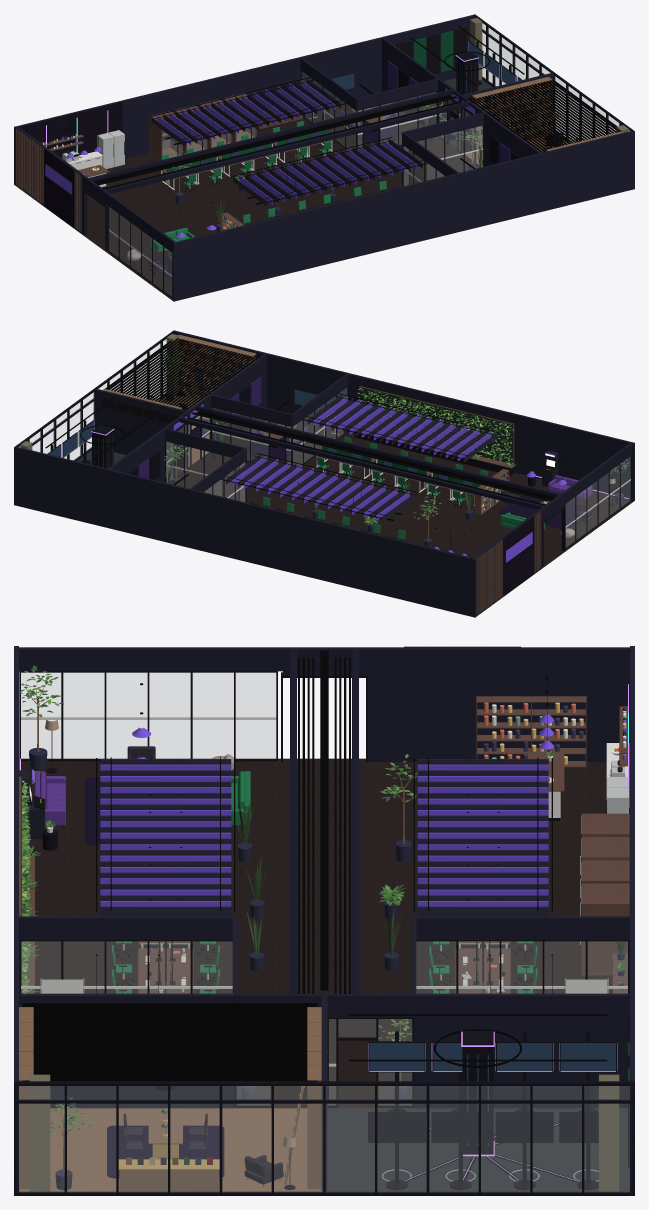
File: wing-neon.glb
3 views of the same model, one above another, from view 1: azimuth 30°, elevation 25°; view 2: azimuth 150°, elevation 25°; view 3: azimuth 270°, elevation 25° (orthographic). The views are drawn at different scales.
Parts seen in each view (by area): view 1: wing-neon-baked-paint-wall, wing-neon-baked-floor, wing-neon-ceiling-felt, wing-neon-glass-glass, wing-neon-ceiling-wood, wing-neon-baked-metal-dark, wing-neon-baked-wood, wing-neon-baked-plaster-accent, wing-neon-baked-felt, wing-neon-ceiling-ceiling, wing-neon-baked-fabric, wing-neon-baked-wood-dark (+10 smaller); view 2: wing-neon-baked-paint-wall, wing-neon-baked-floor, wing-neon-ceiling-felt, wing-neon-glass-glass, wing-neon-ceiling-wood, wing-neon-baked-metal-dark, wing-neon-baked-paint, wing-neon-ceiling-ceiling, wing-neon-baked-felt, wing-neon-baked-wood, wing-neon-baked-foliage, wing-neon-baked-fabric (+9 smaller); view 3: wing-neon-glass-glass, wing-neon-baked-paint-wall, wing-neon-baked-floor, wing-neon-ceiling-felt, wing-neon-baked-metal-dark, wing-neon-ceiling-wood, wing-neon-baked-wood-dark, wing-neon-baked-paint, wing-neon-baked-wood, wing-neon-baked-foliage, wing-neon-baked-fabric, wing-neon-baked-gloss (+14 smaller).
Boxes of the visible parts, bbox=[...] form: wing-neon-baked-paint-wall: bbox=[14, 15, 634, 301]; wing-neon-baked-floor: bbox=[15, 103, 479, 300]; wing-neon-ceiling-felt: bbox=[151, 79, 422, 206]; wing-neon-glass-glass: bbox=[104, 23, 621, 296]; wing-neon-ceiling-wood: bbox=[94, 78, 619, 189]; wing-neon-baked-metal-dark: bbox=[45, 14, 634, 298]; wing-neon-baked-wood: bbox=[16, 93, 385, 232]; wing-neon-baked-plaster-accent: bbox=[18, 101, 122, 227]; wing-neon-baked-felt: bbox=[148, 27, 520, 280]; wing-neon-ceiling-ceiling: bbox=[89, 89, 469, 193]; wing-neon-baked-fabric: bbox=[127, 104, 558, 275]; wing-neon-baked-wood-dark: bbox=[150, 76, 624, 276]; wing-neon-baked-paint-wall: bbox=[14, 331, 634, 617]; wing-neon-baked-floor: bbox=[169, 419, 633, 616]; wing-neon-ceiling-felt: bbox=[226, 395, 497, 522]; wing-neon-glass-glass: bbox=[27, 339, 630, 547]; wing-neon-ceiling-wood: bbox=[103, 338, 554, 505]; wing-neon-baked-metal-dark: bbox=[14, 330, 631, 566]; wing-neon-baked-paint: bbox=[77, 339, 558, 540]; wing-neon-ceiling-ceiling: bbox=[179, 405, 559, 509]; wing-neon-baked-felt: bbox=[102, 377, 594, 528]; wing-neon-baked-wood: bbox=[263, 386, 549, 614]; wing-neon-baked-foliage: bbox=[160, 353, 629, 524]; wing-neon-baked-fabric: bbox=[179, 403, 615, 539]; wing-neon-glass-glass: bbox=[19, 673, 629, 1192]; wing-neon-baked-paint-wall: bbox=[14, 646, 634, 1195]; wing-neon-baked-floor: bbox=[19, 758, 629, 1191]; wing-neon-ceiling-felt: bbox=[100, 759, 548, 916]; wing-neon-baked-metal-dark: bbox=[14, 671, 634, 1195]; wing-neon-ceiling-wood: bbox=[22, 657, 350, 1081]; wing-neon-baked-wood-dark: bbox=[19, 684, 417, 1191]; wing-neon-baked-paint: bbox=[19, 769, 629, 1191]; wing-neon-baked-wood: bbox=[19, 696, 629, 993]; wing-neon-baked-foliage: bbox=[20, 665, 626, 1136]; wing-neon-baked-fabric: bbox=[34, 719, 537, 1149]; wing-neon-baked-gloss: bbox=[29, 702, 626, 1190].
Size of what is drawn, in the model's own units: 30 by 3.63 by 18.
Materials: 30 (9 with a texture image).
